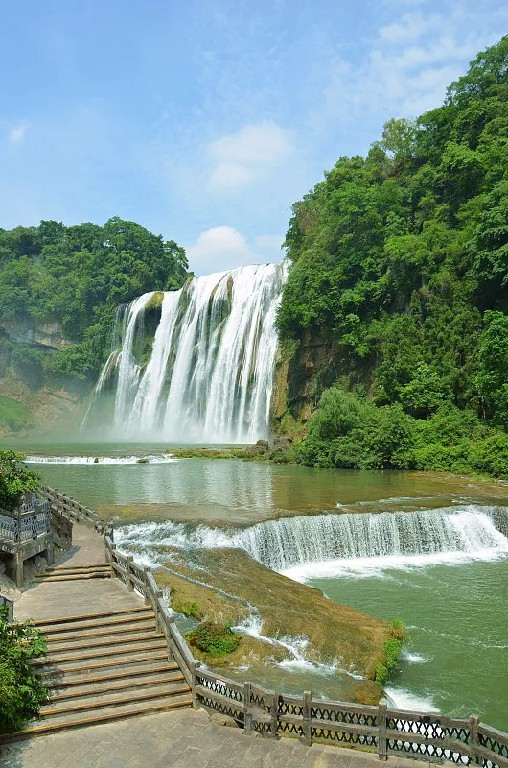Huangguoshu: (85, 261, 289, 445)
